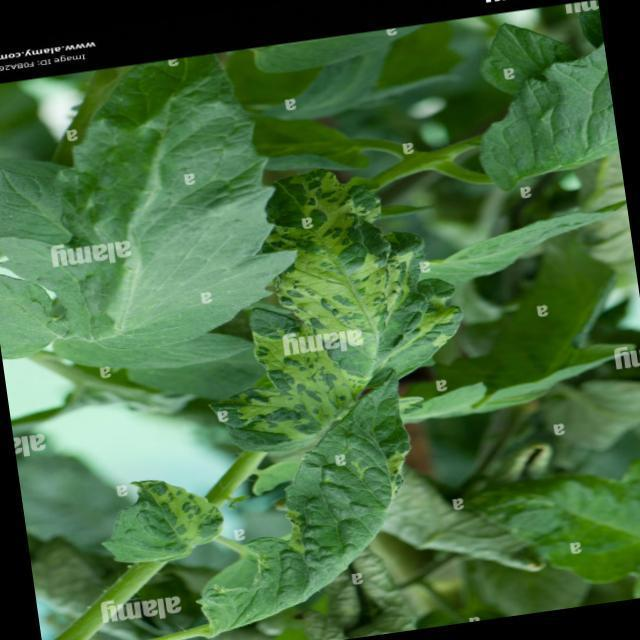Mosaic Virus: (220, 156, 479, 442), (96, 470, 224, 573)
